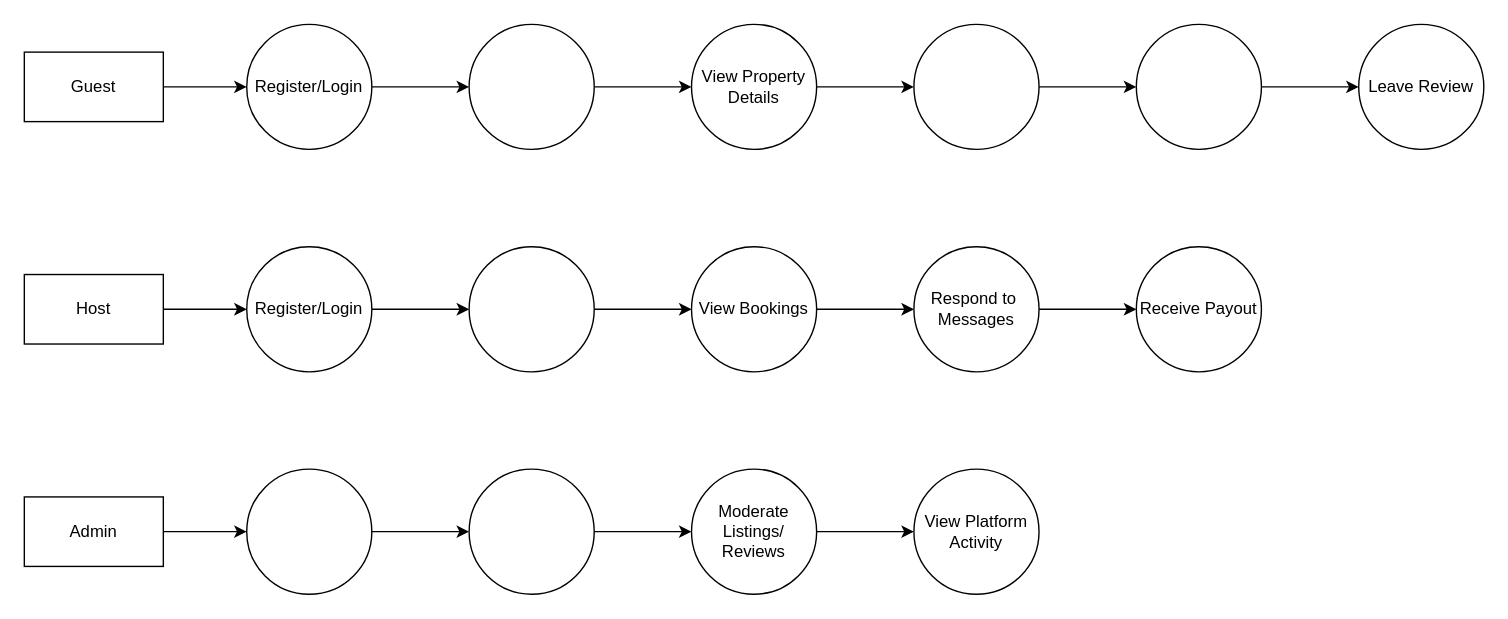
This 1508x619 diagram has some shape labels left out. The shapes that lost their labels are listed below. From the top down, each one's centre as x and y in pixels, then its label:
(531,86): Search Listings
(976,86): Make Booking
(1198,86): Make Payment
(531,308): Manage Listings
(308,531): Login
(531,531): M anage Users
